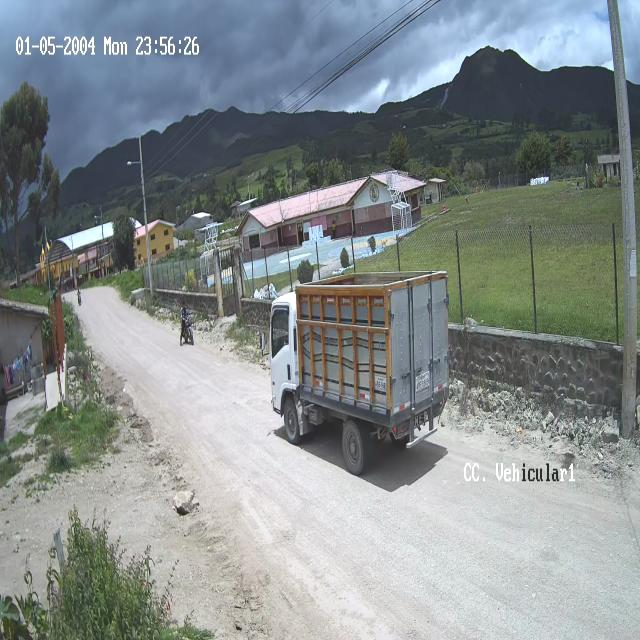TRUCK: (267, 270, 452, 478)
